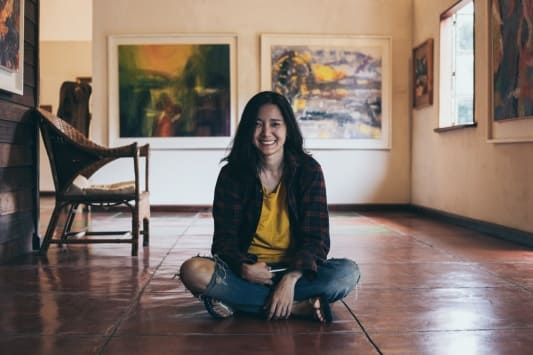person: (178, 92, 365, 326)
